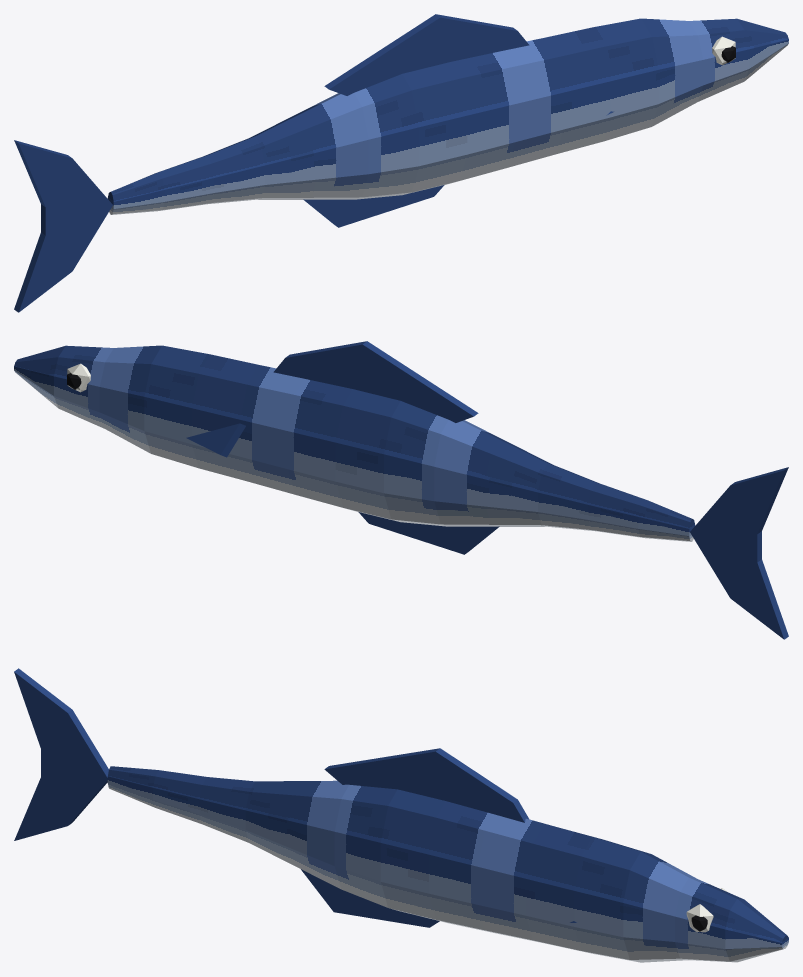
The model's file is wahoo.glb.
3 views of the same model, one above another, from view 1: azimuth 30°, elevation 25°; view 2: azimuth 150°, elevation 25°; view 3: azimuth 330°, elevation 25° (orthographic).
Parts seen in each view (by area): view 1: fish_wahoo; view 2: fish_wahoo; view 3: fish_wahoo.
Part boxes in pixels (x1,y1,x2,y2): fish_wahoo: (14,14,788,312); fish_wahoo: (14,341,788,639); fish_wahoo: (14,668,788,962).
Bounding box in the file's own units: 1.14 × 0.2725 × 0.1267.
4 materials, 1 textured.
